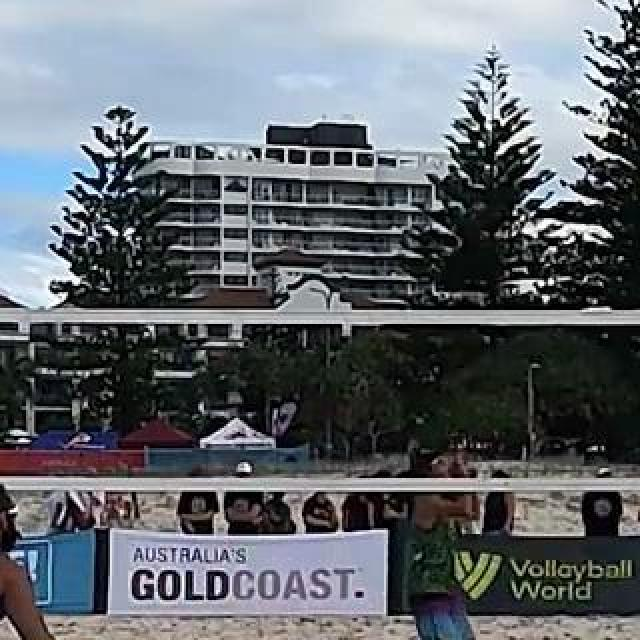volleyball: (583, 491, 625, 535)
